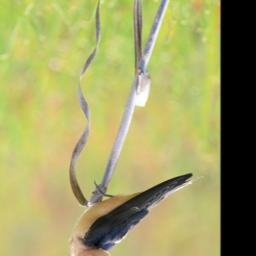Swallow: (69, 167, 207, 256)
